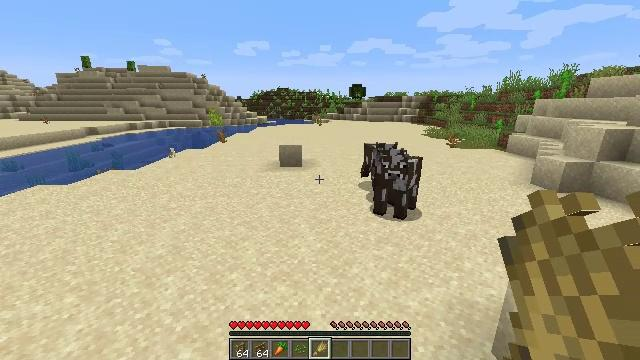cow: (373, 154, 419, 218), (361, 143, 406, 187)
